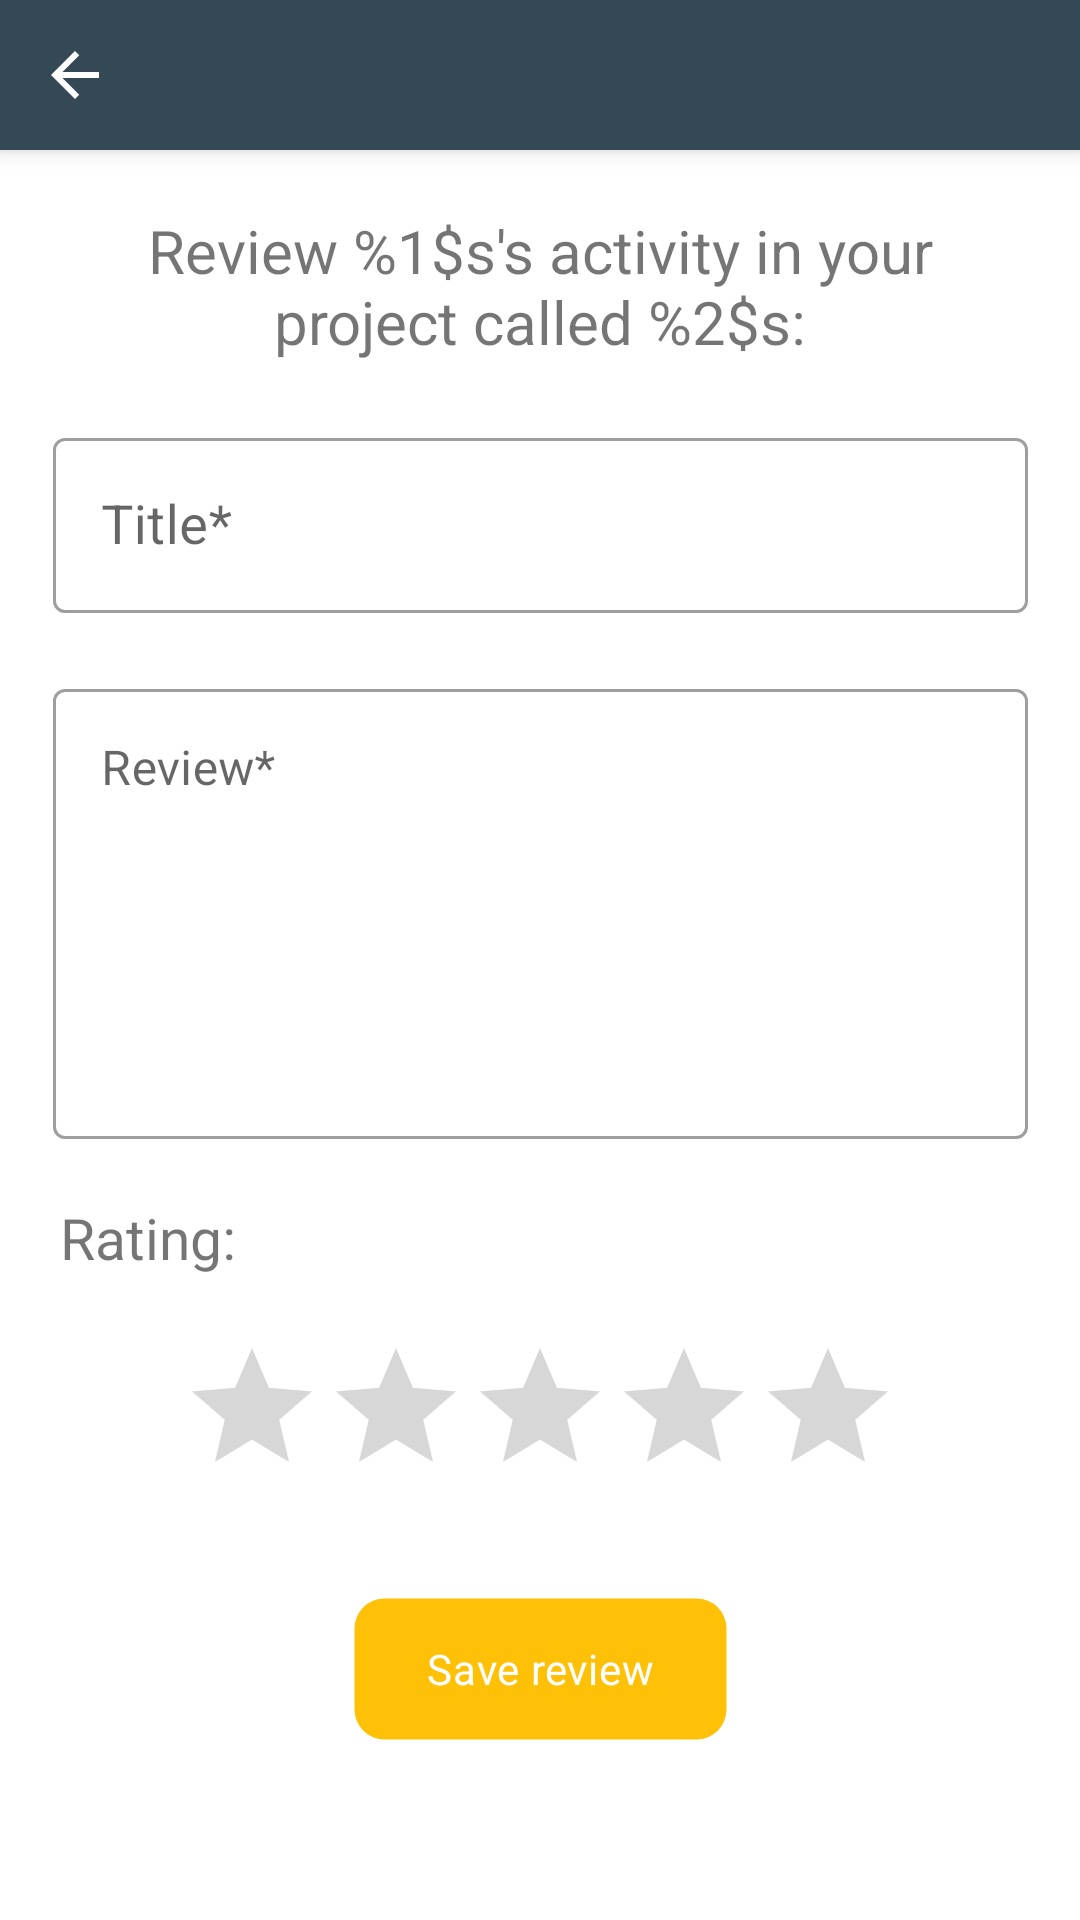

Named icons in this screenshot (1080×1920) and their bounding boxes, [x1, y1, x2, y2]:
back: [51, 51, 99, 99]
